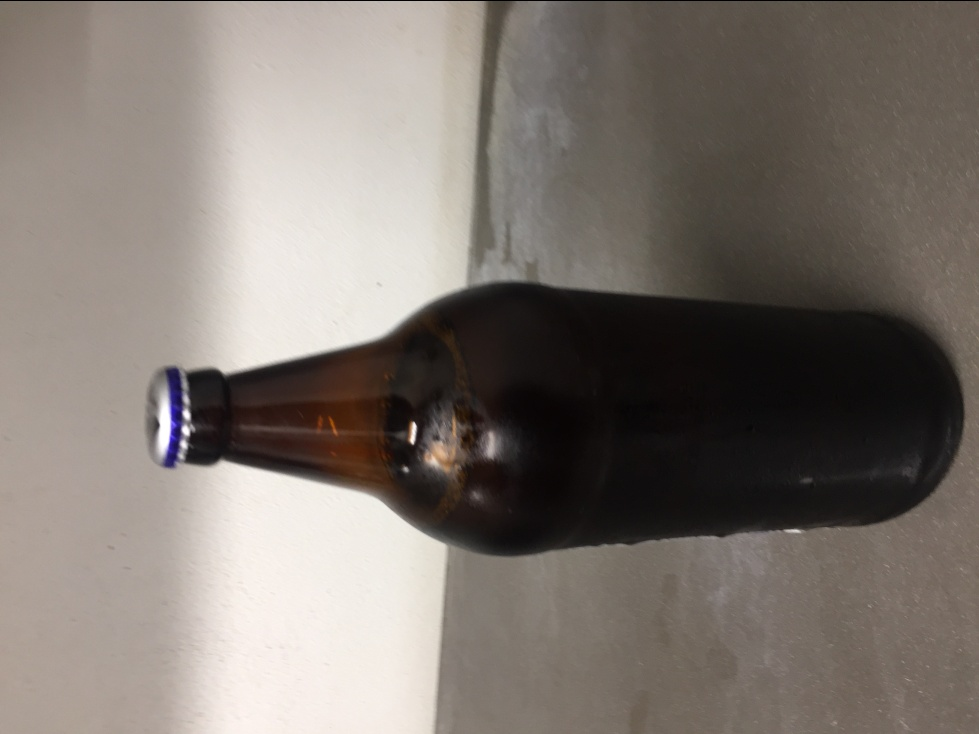tecateC: (142, 279, 962, 561)
